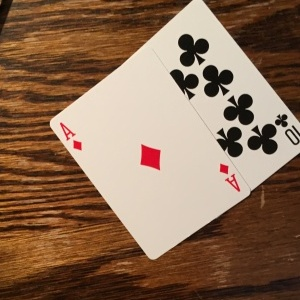card: (50, 44, 249, 256)
